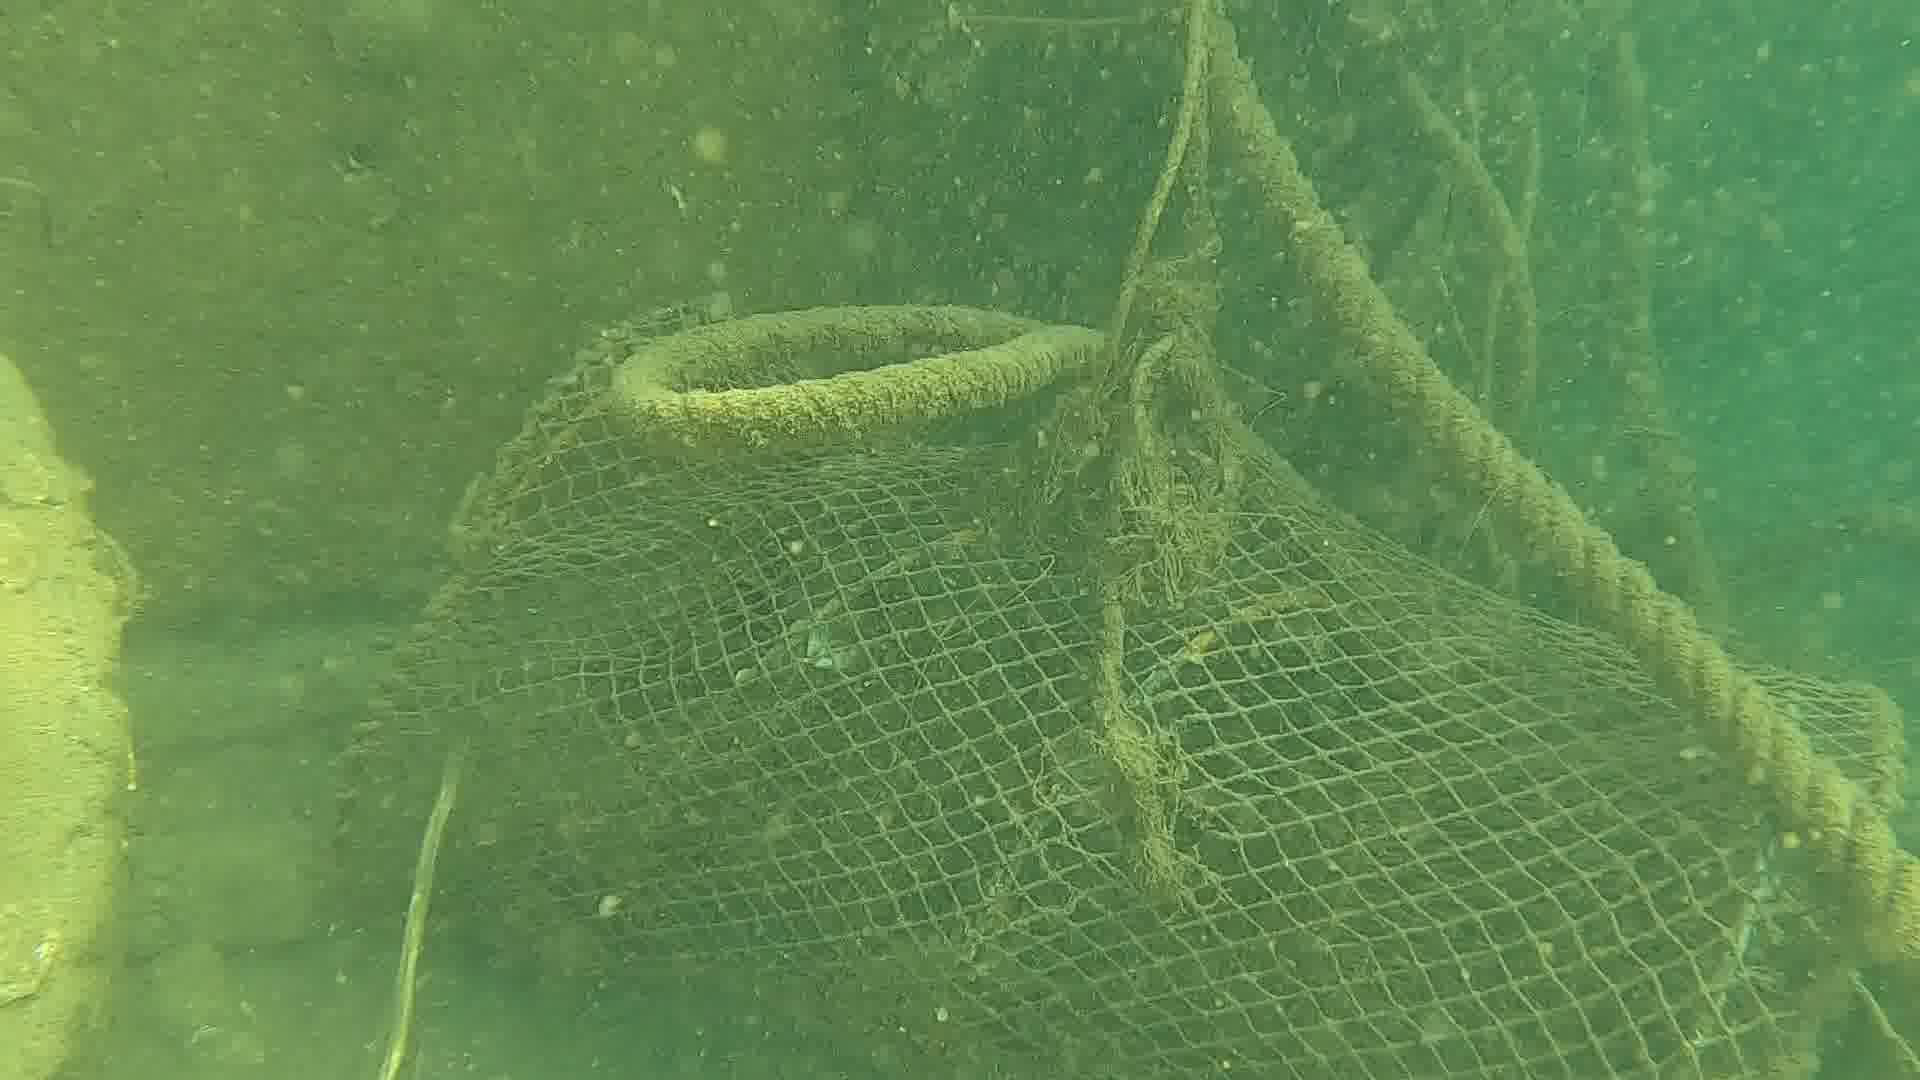bundle of ropes: (1215, 0, 1920, 961)
rope: (608, 299, 1102, 448), (1104, 0, 1208, 340)
spring fish trap: (323, 301, 1905, 1080)
